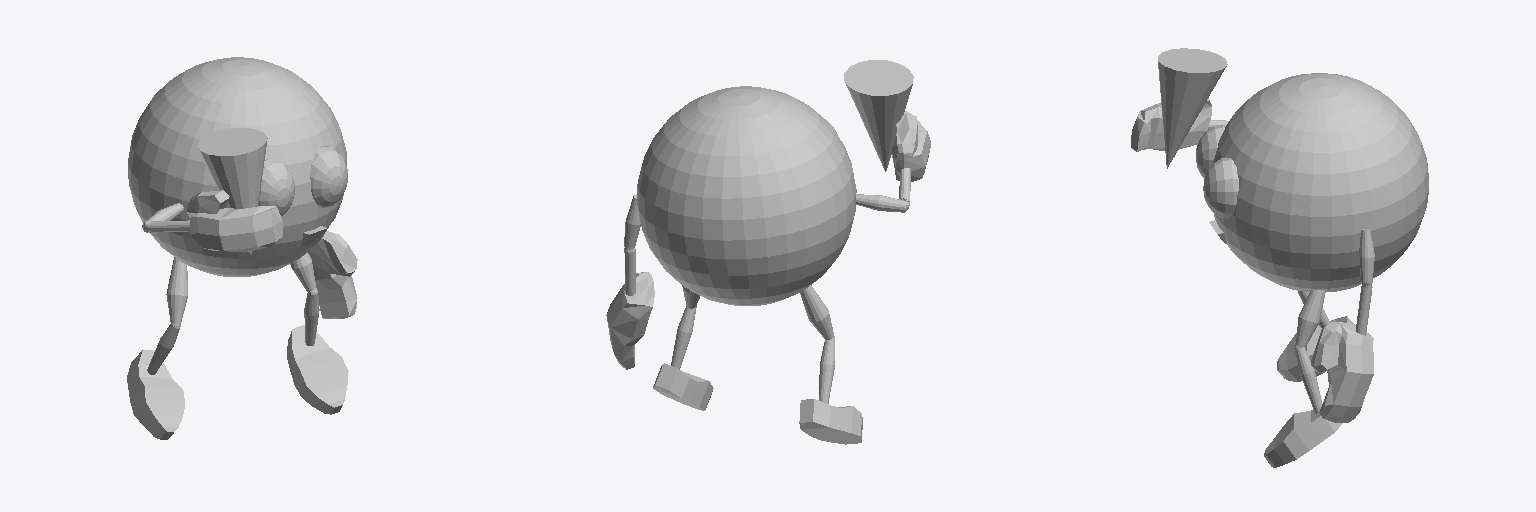
Rendered from stepLeft_000035.obj.
3 renders of one model, left to right at view 1: azimuth 30°, elevation 25°; view 2: azimuth 150°, elevation 25°; view 3: azimuth 270°, elevation 25°, orthographic.
Visible parts, largest first — view 1: Rusko_Sphere; view 2: Rusko_Sphere; view 3: Rusko_Sphere.
Part boxes in pixels (left/top/right/bottom): Rusko_Sphere: left=127, top=57, right=357, bottom=439; Rusko_Sphere: left=606, top=60, right=930, bottom=444; Rusko_Sphere: left=1131, top=48, right=1428, bottom=467.
Size of the model in its own units: 5.32 by 6.95 by 5.43.